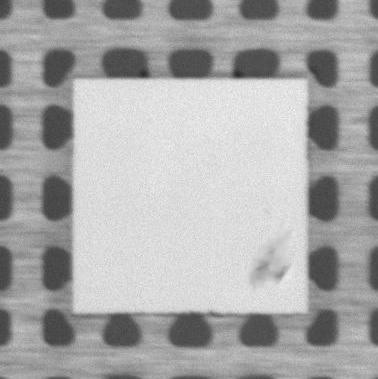DIE_INK: (242, 229, 295, 290)
